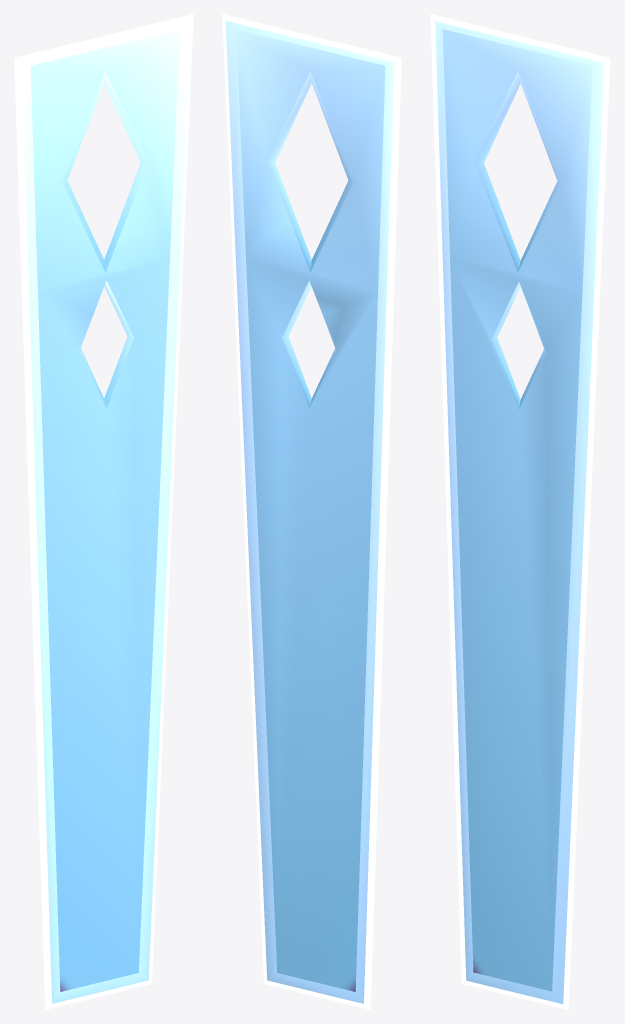
The model's file is steel_blade (2).glb.
3 renders of one model, left to right at view 1: azimuth 30°, elevation 25°; view 2: azimuth 150°, elevation 25°; view 3: azimuth 330°, elevation 25°, orthographic.
Parts seen in each view (by area): view 1: steel_blade_steel.061; view 2: steel_blade_steel.061; view 3: steel_blade_steel.061.
Part boxes in pixels (left/top/right/bottom): steel_blade_steel.061: left=14, top=14, right=193, bottom=1009; steel_blade_steel.061: left=222, top=14, right=401, bottom=1009; steel_blade_steel.061: left=430, top=14, right=610, bottom=1009.
Size of the model in its own units: 2.19 by 11.21 by 0.0882.
1 material, 1 textured.
